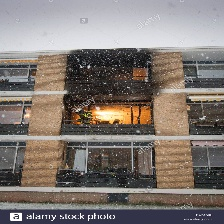fire: (86, 108, 128, 125)
